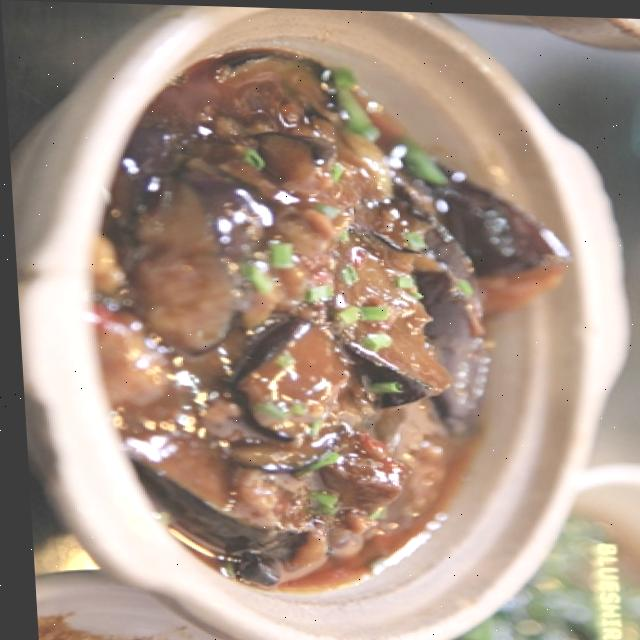鸡蛋料理: (80, 61, 584, 594)
